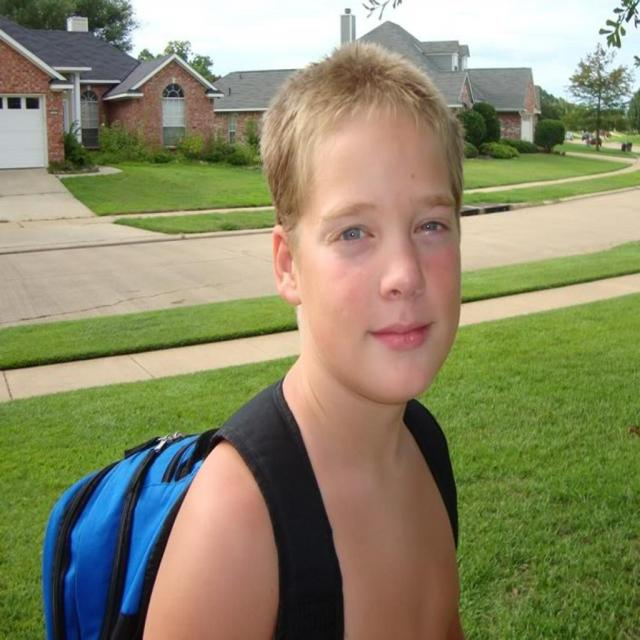nomask: (305, 122, 461, 398)
